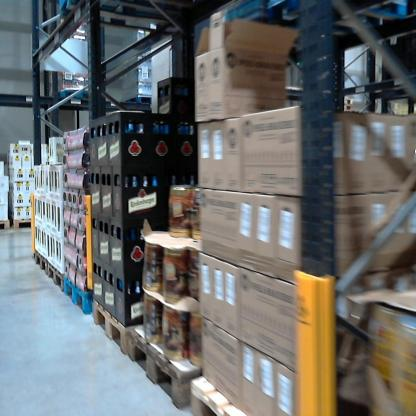pallet: (127, 319, 218, 410), (267, 0, 412, 40), (89, 295, 168, 361), (58, 1, 195, 38), (187, 375, 250, 416), (62, 273, 94, 321), (59, 85, 116, 107), (45, 257, 65, 299), (121, 91, 170, 107), (12, 213, 45, 233), (32, 248, 48, 281), (1, 220, 15, 231), (341, 93, 354, 104), (342, 105, 355, 113)
